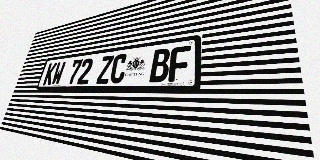2: (77, 58, 94, 84)
7: (66, 59, 83, 85)
B: (149, 48, 171, 82)
C: (109, 53, 128, 84)
F: (168, 45, 191, 82)
K: (42, 62, 57, 85)
W: (51, 61, 66, 85)
Z: (96, 55, 114, 84)
